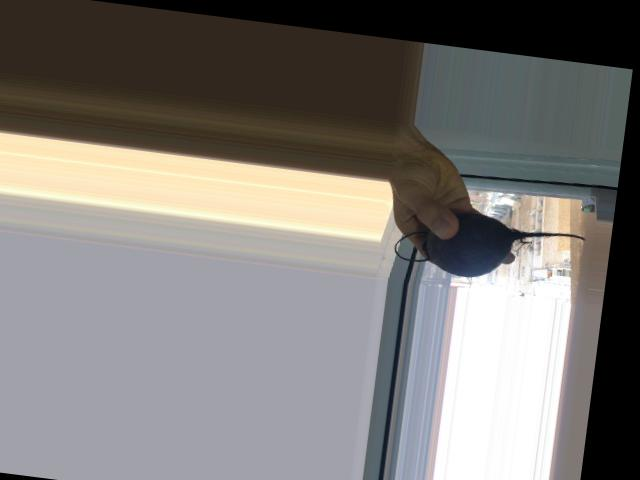beet: (393, 203, 587, 291)
